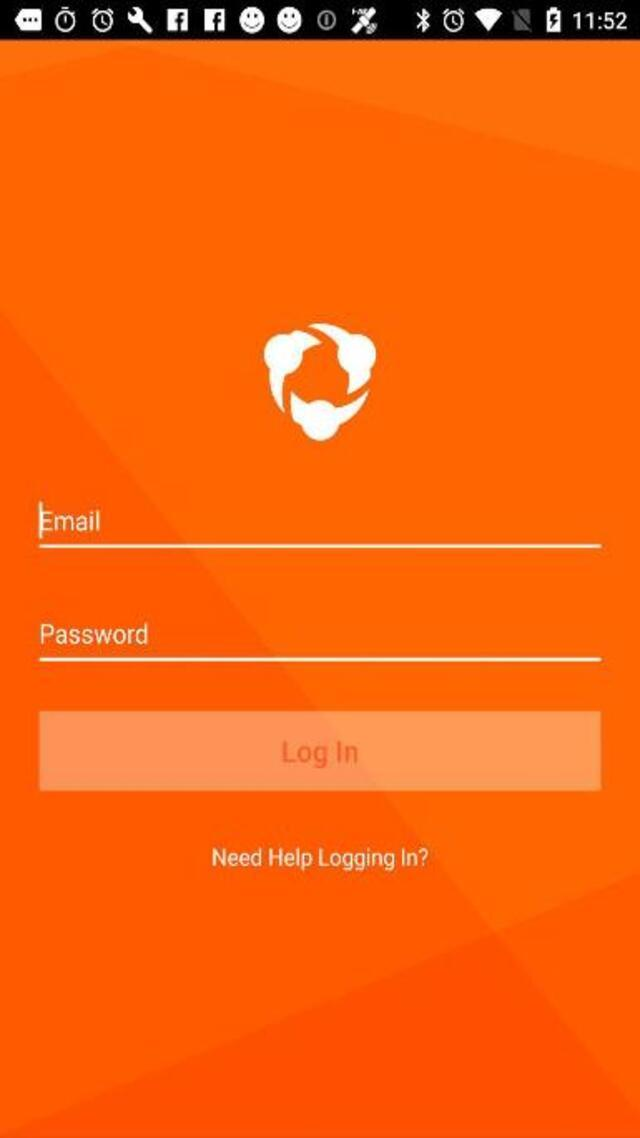Image: (262, 323, 376, 442)
Text: (214, 848, 428, 871), (270, 736, 364, 772), (42, 623, 148, 644), (42, 511, 98, 531)
TextButton: (38, 711, 600, 790)
